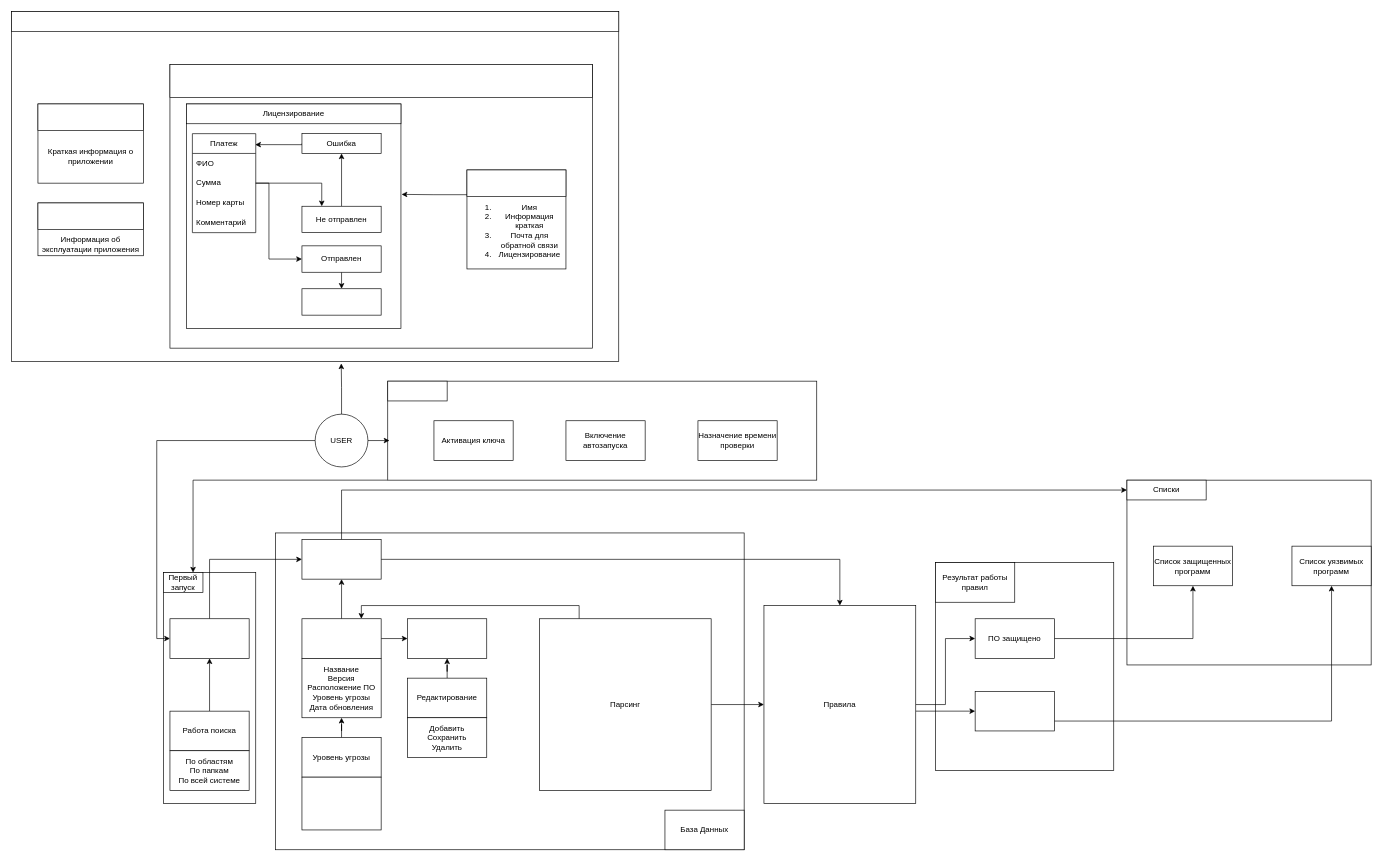
Image size: 1383x861. Some labels were removed from this diagram. Each missing label, with the centre of its shape:
Programme Info: the point at 341,638
Доверенная зона: the point at 447,638
Инструкция: the point at 90,215
Информация: the point at 315,21
Критический Высокий Средний Низкий Отсутствует: the point at 341,803
Настройки: the point at 417,390
О приложении: the point at 90,116
О разработчике: the point at 380,80
О разработчике_инфо: the point at 516,182
Отправка ключа: the point at 341,301
ПО уязвимо: the point at 1014,711
Поиск программ: the point at 209,638
Программы: the point at 341,559
